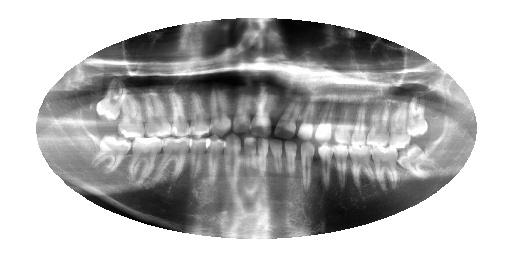i10decay: (244, 136, 257, 180)
i11decay: (225, 135, 242, 189)
i12healthy: (208, 136, 226, 186)
i13healthy: (189, 137, 209, 184)
i14healthy: (162, 136, 191, 185)
i15healthy: (129, 136, 164, 182)
i16healthy: (90, 133, 133, 174)
i1healthy: (398, 146, 441, 182)
i2healthy: (371, 146, 399, 195)
i3healthy: (352, 145, 372, 197)
i4healthy: (333, 143, 351, 196)
i5healthy: (316, 143, 334, 191)
i6healthy: (299, 142, 315, 192)
i7healthy: (284, 141, 298, 180)
i8healthy: (270, 136, 284, 176)
i9chipped: (258, 135, 270, 181)
u10decay: (234, 95, 251, 135)
u11healthy: (213, 94, 233, 136)
u12healthy: (191, 94, 212, 136)
u13healthy: (173, 95, 190, 135)
u14healthy: (145, 95, 172, 138)
u15healthy: (117, 96, 144, 139)
u16healthy: (95, 82, 124, 122)
u1healthy: (407, 91, 429, 140)
u2healthy: (390, 102, 409, 145)
u3healthy: (368, 100, 391, 145)
u4healthy: (352, 106, 367, 145)
u5healthy: (335, 103, 353, 142)
u6healthy: (317, 100, 333, 141)
u7healthy: (298, 98, 315, 138)
u8decay: (274, 95, 296, 137)
u9decay: (252, 94, 274, 135)
